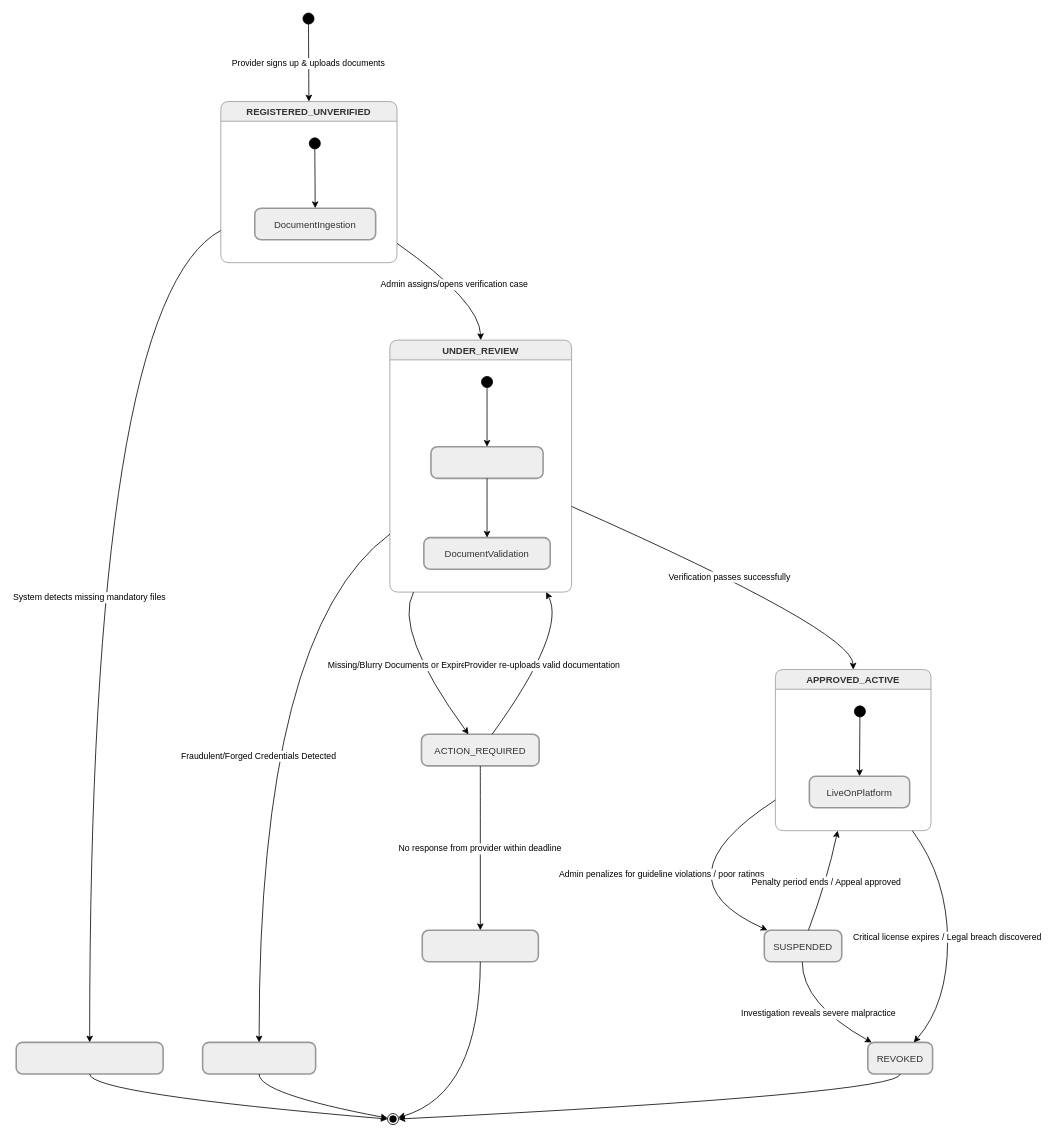
Some shapes in this 1055 by 1138 pixel diagram are drawn without their labels. The shapes that lost their labels are listed below. From the top down, each one's centre as x and y in pixels, then its label:
At point (487, 462): "BackgroundCheck".
At point (480, 945): "EXPIRED_TIMEOUT".
At point (89, 1057): "INCOMPLETE_REJECTED".
At point (258, 1057): "REJECTED_FRAUD".
